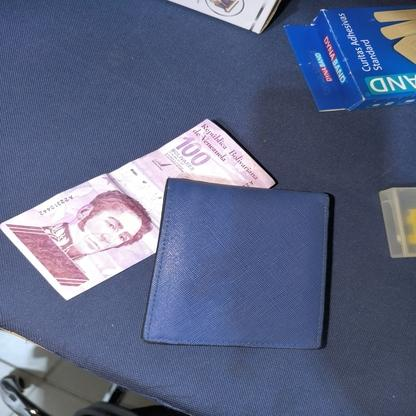vef_front: (0, 118, 276, 302)
